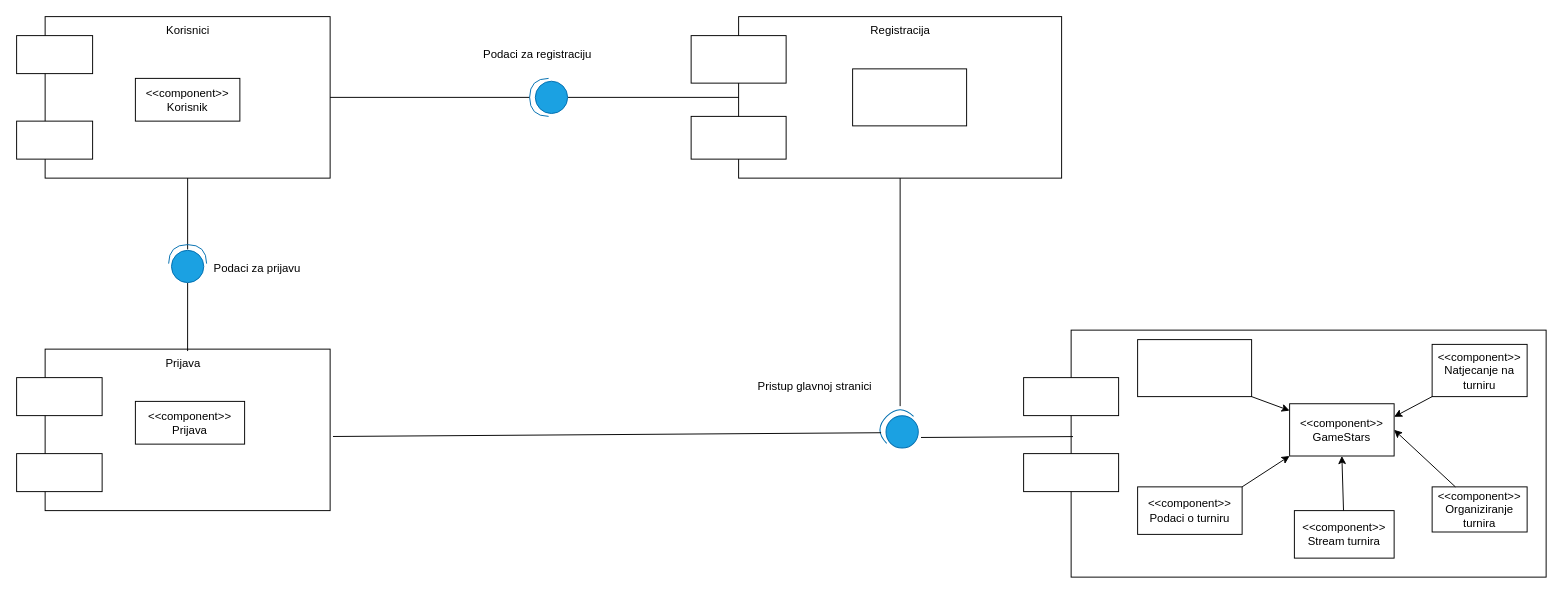
This 1563x594 diagram has some shape labels left out. Here are the shapes that lost their labels. From the top down, the centre of each, then its label:
the point at 909,97: <<component>> Registracija
the point at 1194,368: <<component>> Pretraživanje turnira
